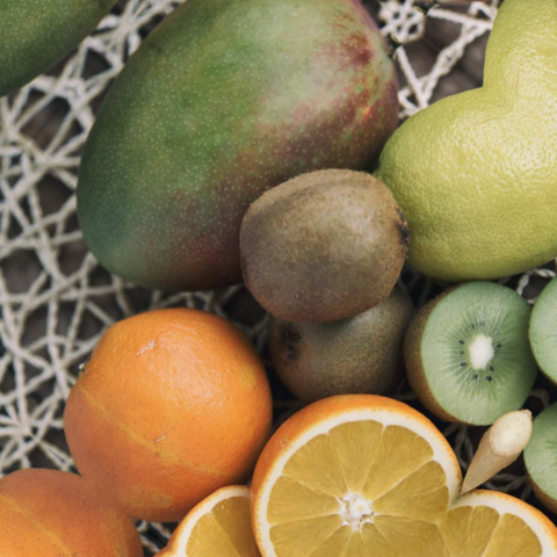kiwi: (0, 0, 453, 386), (201, 124, 441, 364)
orange: (19, 256, 314, 554)
